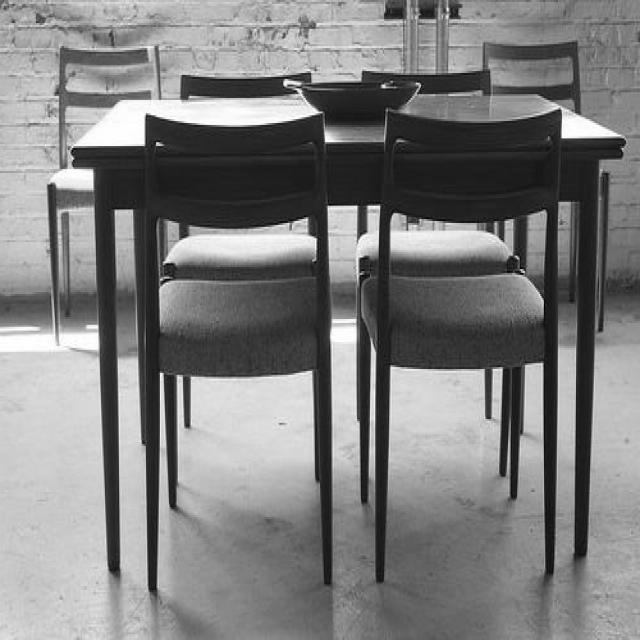chair: (361, 104, 558, 584), (142, 99, 334, 585), (486, 39, 614, 338), (48, 32, 166, 350)
table: (72, 90, 626, 570)
